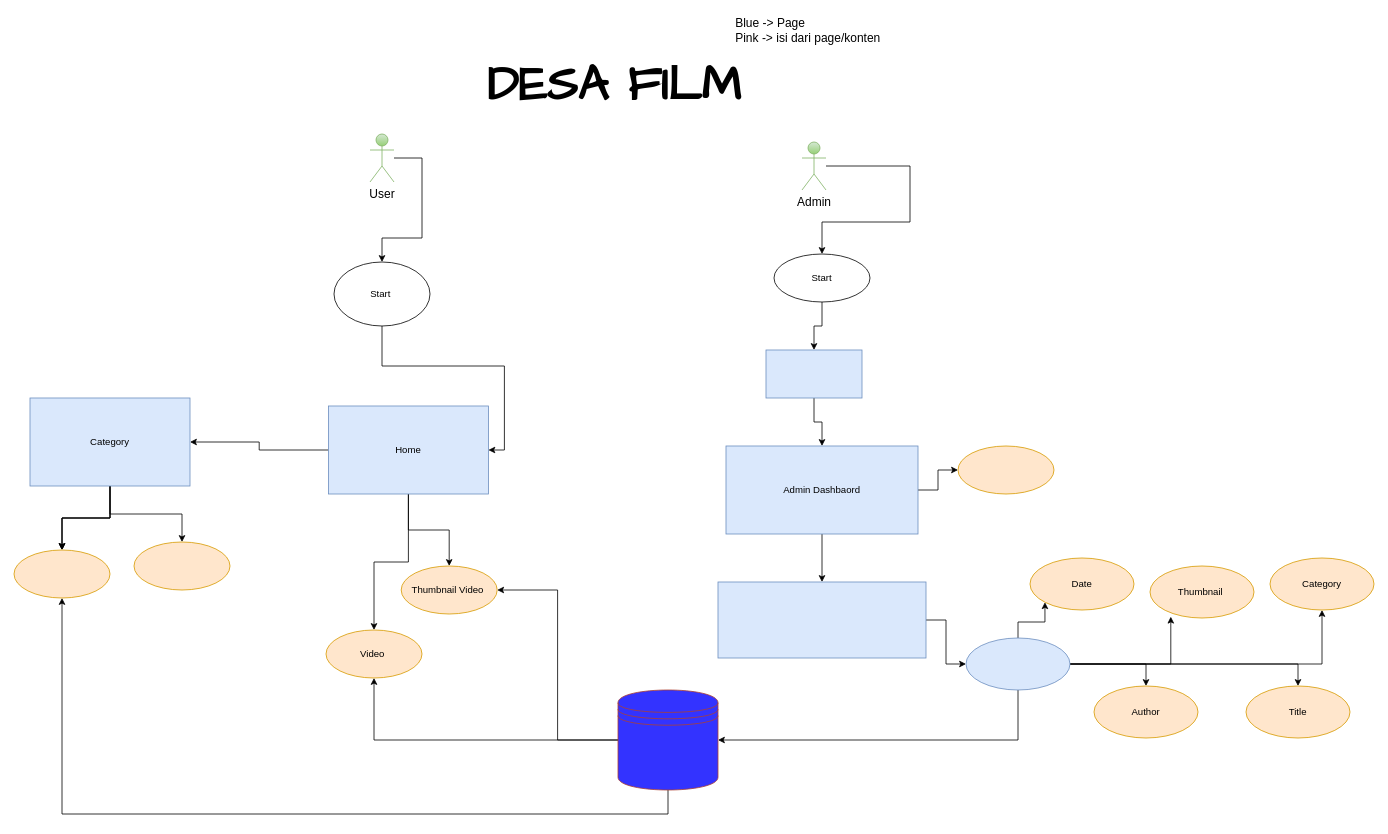
This 1388x834 diagram has some shape labels left out. The shapes that lost their labels are listed below. From the top down, each one's centre as x and y in pixels, then its label:
(813,373): Login Page
(1005,469): Table Activity Crud
(61,573): List Category
(181,565): List Title
(821,619): Crud
(1017,663): CRUD Video
(667,739): DB Desa_film
